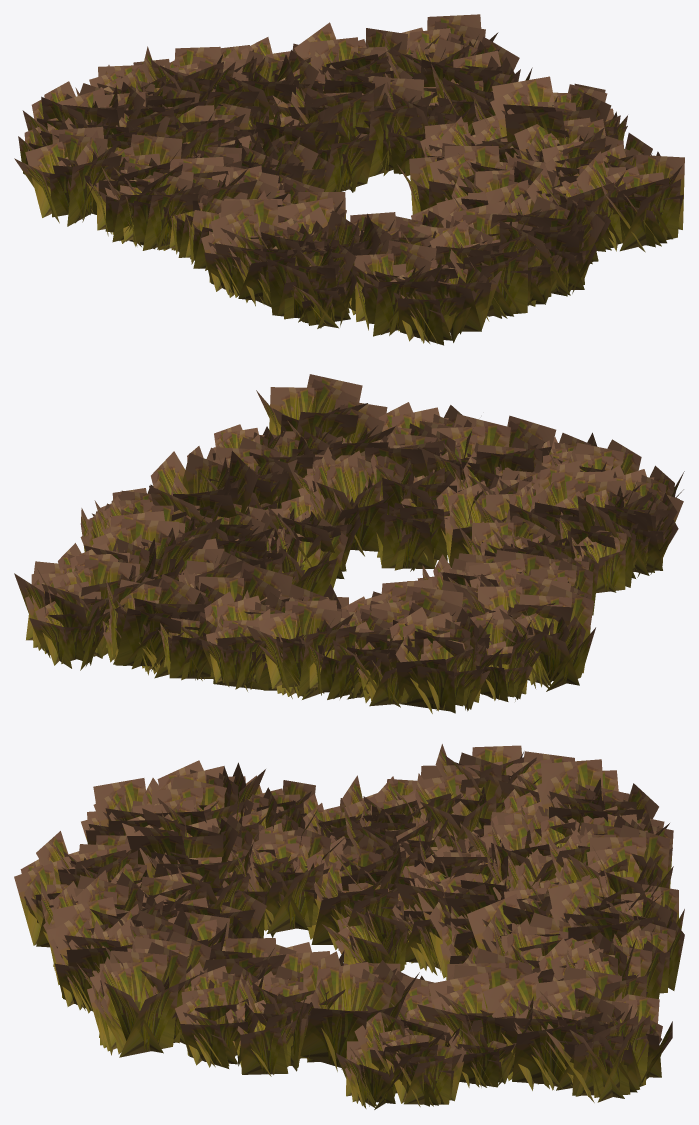
The model's file is object_10_lev2.glb.
3 renders of one model, top to bottom at view 1: azimuth 30°, elevation 25°; view 2: azimuth 150°, elevation 25°; view 3: azimuth 270°, elevation 25°, orthographic. The views are drawn at different scales.
Parts seen in each view (by area): view 1: object_10_lev2; view 2: object_10_lev2; view 3: object_10_lev2.
Boxes of the visible parts, x1=… form: object_10_lev2: x1=14, y1=14, x2=684, y2=345; object_10_lev2: x1=14, y1=374, x2=684, y2=713; object_10_lev2: x1=14, y1=744, x2=684, y2=1109.
Size of the model in its own units: 19.48 by 4.36 by 19.27.
1 material, 1 textured.
